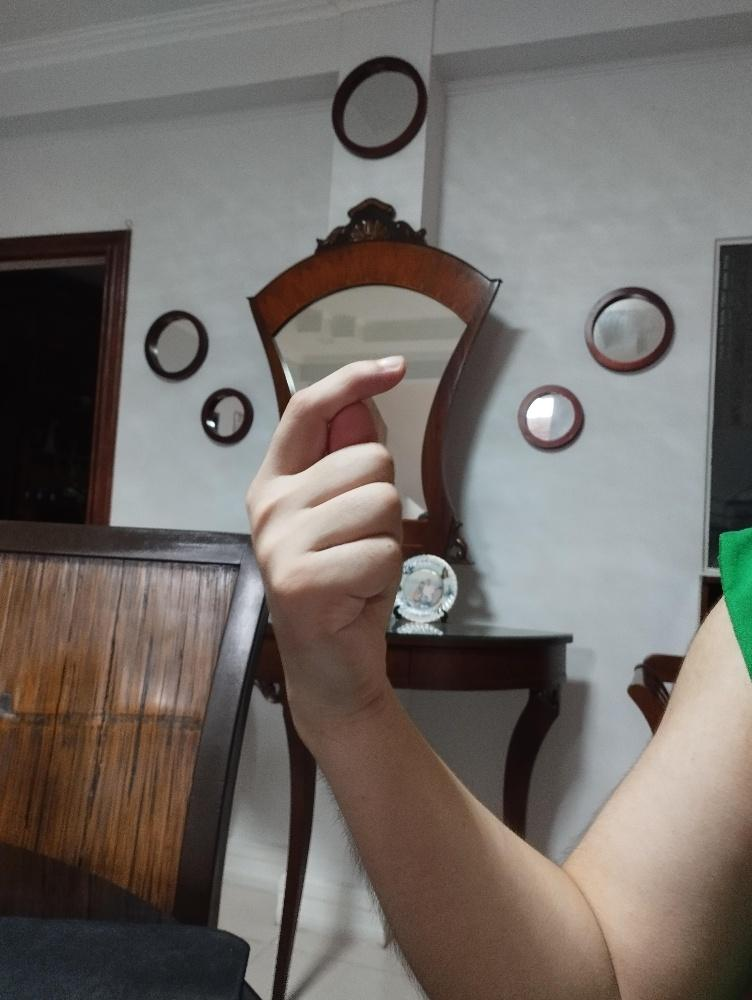t: (240, 352, 412, 723)
